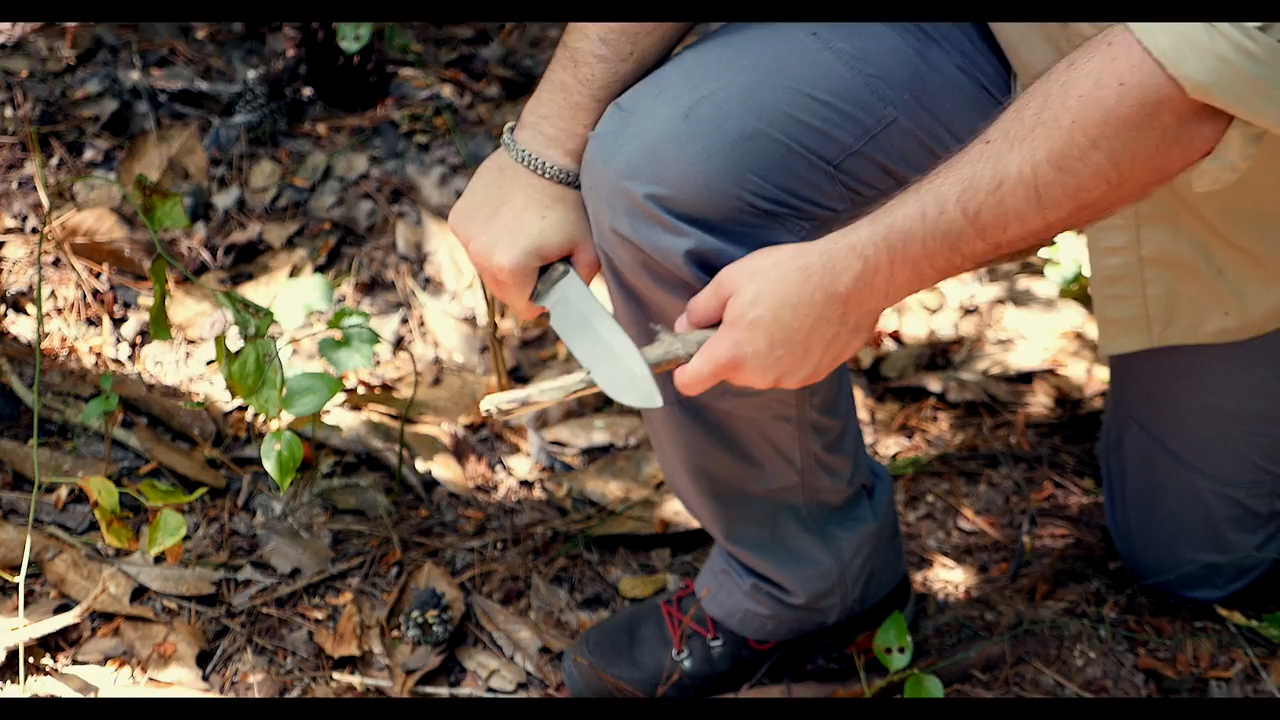knife: (483, 229, 669, 418)
